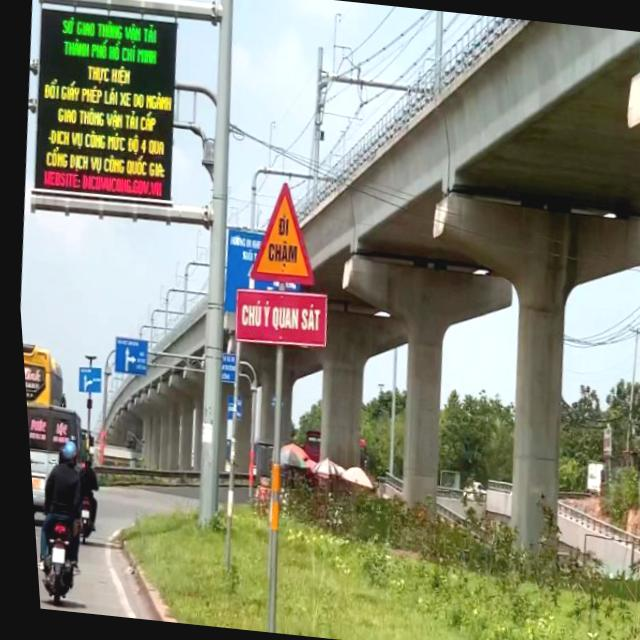Di cham: (235, 172, 322, 290)
